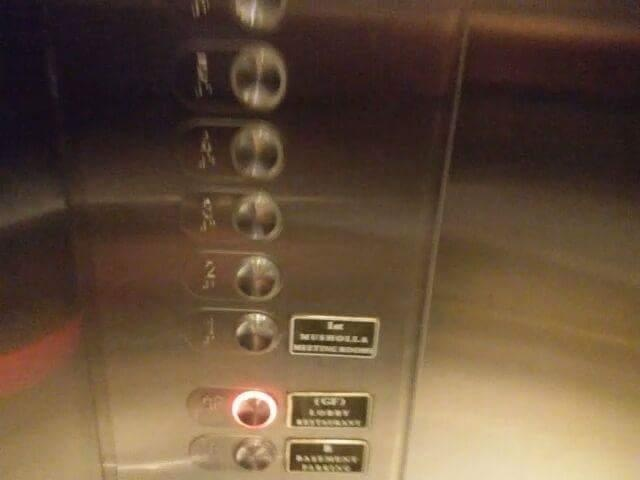1: (184, 306, 283, 358)
2: (183, 247, 284, 302)
3: (177, 190, 287, 249)
4: (175, 119, 285, 188)
blur: (171, 38, 292, 112), (185, 433, 280, 477)
open: (186, 386, 282, 430)
